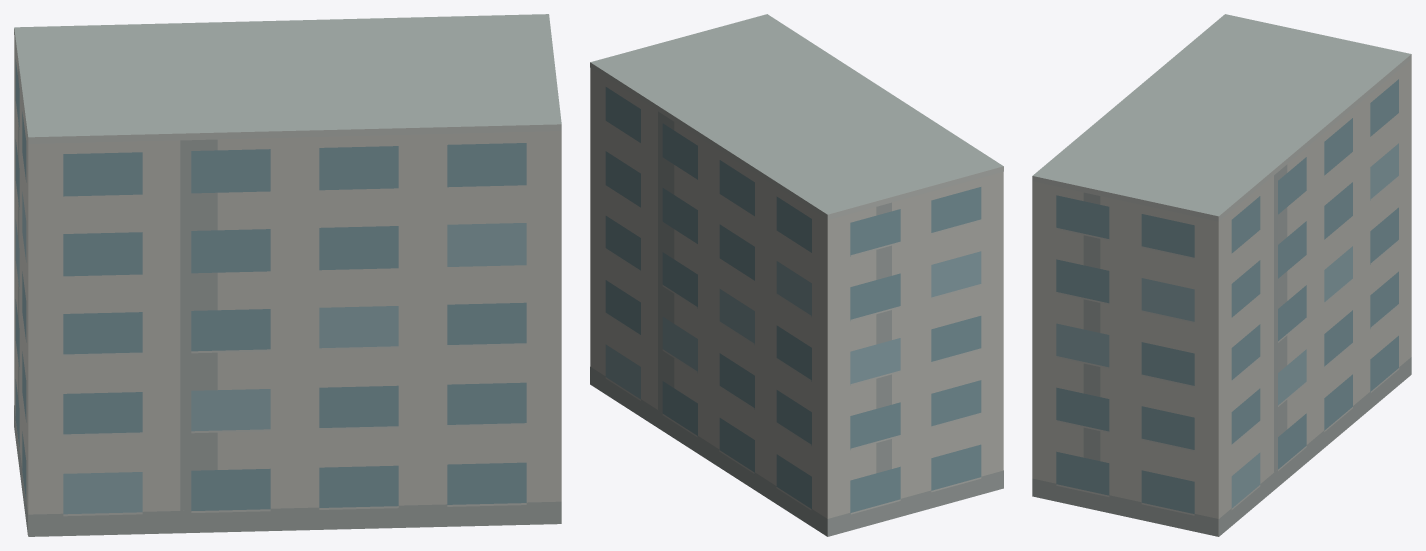
File: survey-upis-32987265.glb
3 views of the same model, side by side, from view 1: azimuth 30°, elevation 25°; view 2: azimuth 150°, elevation 25°; view 3: azimuth 270°, elevation 25° (orthographic). The views are drawn at different scales.
Parts seen in each view (by area): view 1: survey-upis-32987265.tmp; view 2: survey-upis-32987265.tmp; view 3: survey-upis-32987265.tmp.
Boxes of the visible parts, x1,y1,x2,y2 form: survey-upis-32987265.tmp: [14, 14, 561, 536]; survey-upis-32987265.tmp: [590, 14, 1003, 536]; survey-upis-32987265.tmp: [1032, 14, 1411, 536].
Size of the model in its own units: 19.3 by 14.25 by 15.29.
